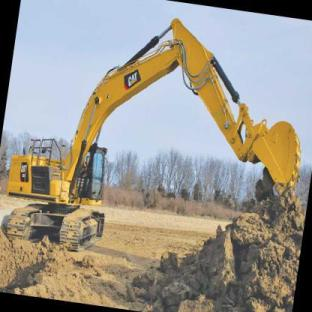ExcavationMachinery: (8, 10, 300, 262)
